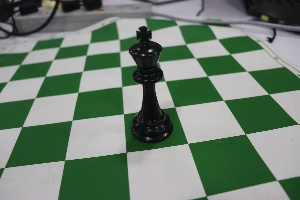black_king: (118, 13, 179, 151)
